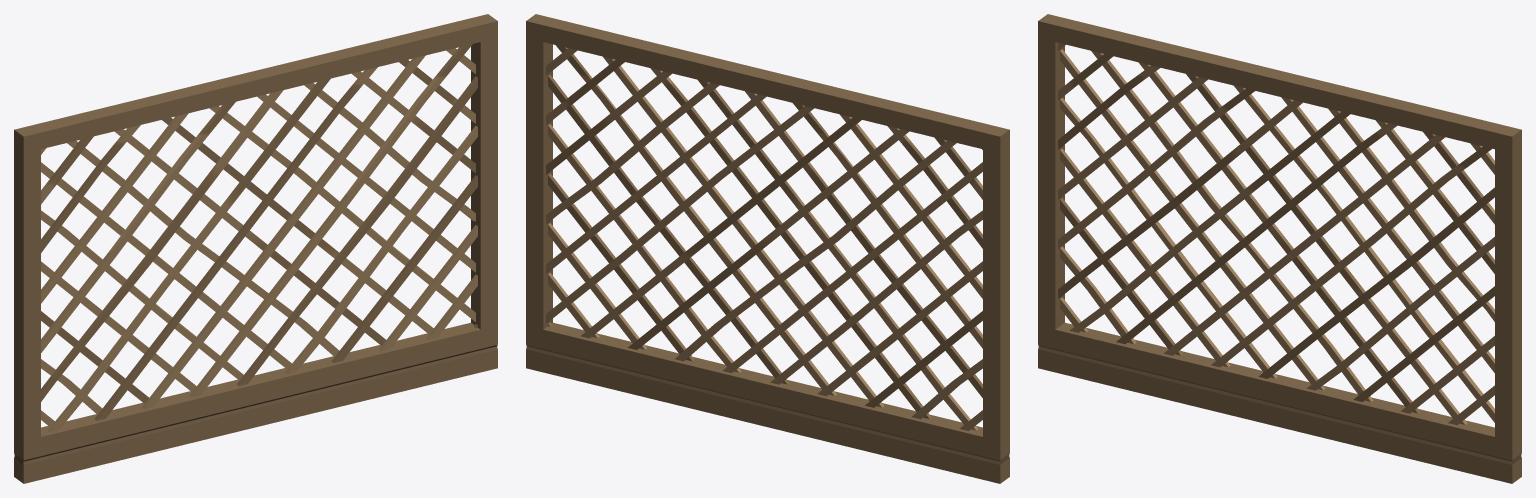
The model's file is SM_Bld_Wall_Feature_Half_01.obj.
The picture shows the model from 3 angles, left to right: view 1: azimuth 30°, elevation 25°; view 2: azimuth 150°, elevation 25°; view 3: azimuth 330°, elevation 25°; orthographic projection.
Parts seen in each view (by area): view 1: SM_Bld_Wall_Feature_Half_01_0; view 2: SM_Bld_Wall_Feature_Half_01_0; view 3: SM_Bld_Wall_Feature_Half_01_0.
Boxes of the visible parts, x1,y1,x2,y2 form: SM_Bld_Wall_Feature_Half_01_0: (14,14,497,483); SM_Bld_Wall_Feature_Half_01_0: (526,14,1009,483); SM_Bld_Wall_Feature_Half_01_0: (1038,14,1521,483).
Bounding box in the file's own units: 2.5 × 1.75 × 0.0883.
Materials: 1 (1 with a texture image).
